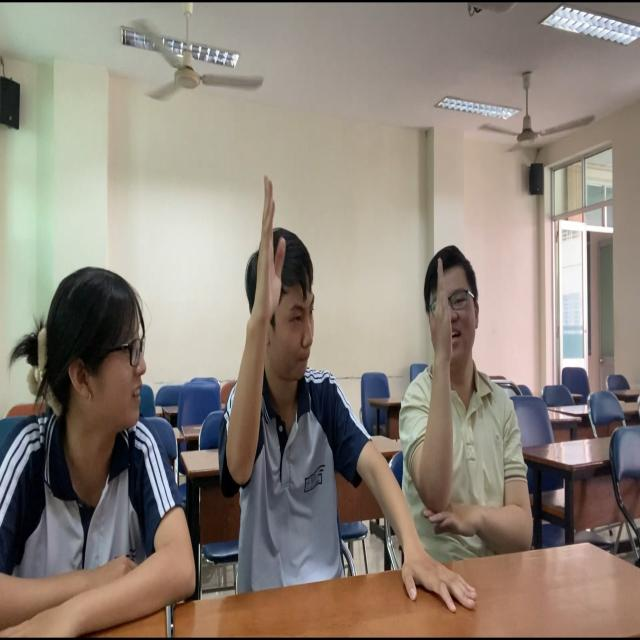raise_hand: (226, 170, 367, 554), (404, 242, 532, 544)
